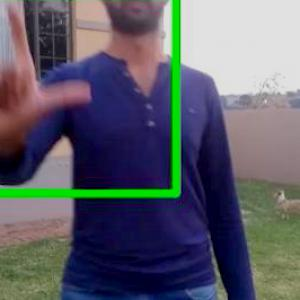land_hand: (0, 0, 100, 137)
